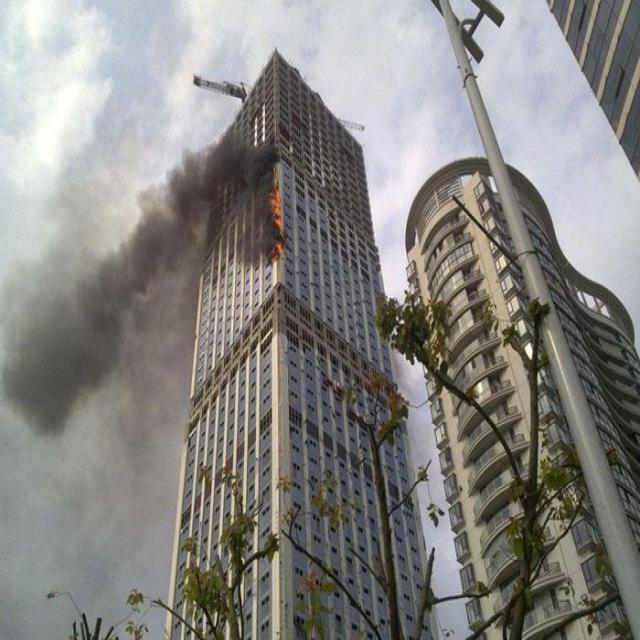Smoke: (1, 110, 272, 437)
